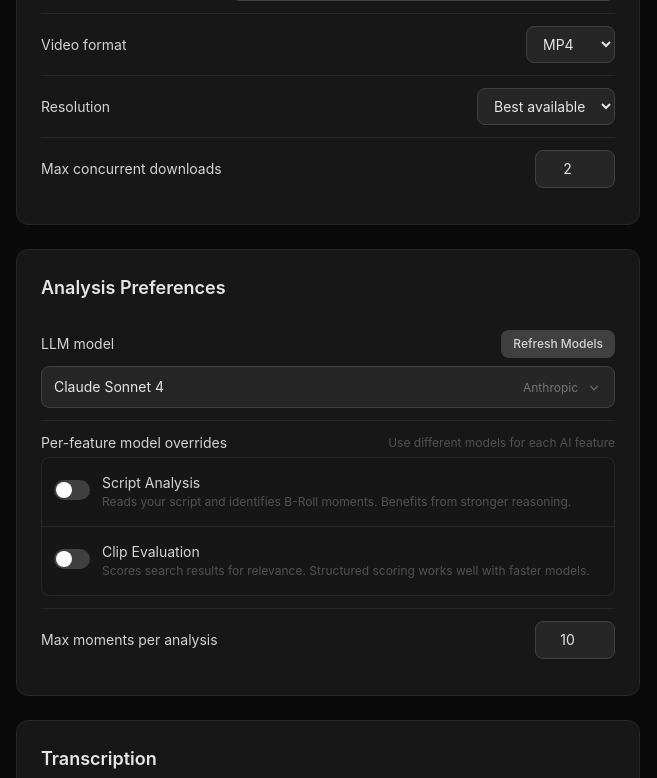
Test case: Settings › shows models grouped by provider when dropdown opened
(page scrolled)
Click the text "Claude Sonnet 4".
click(109, 387)  # box [54,377,164,397]
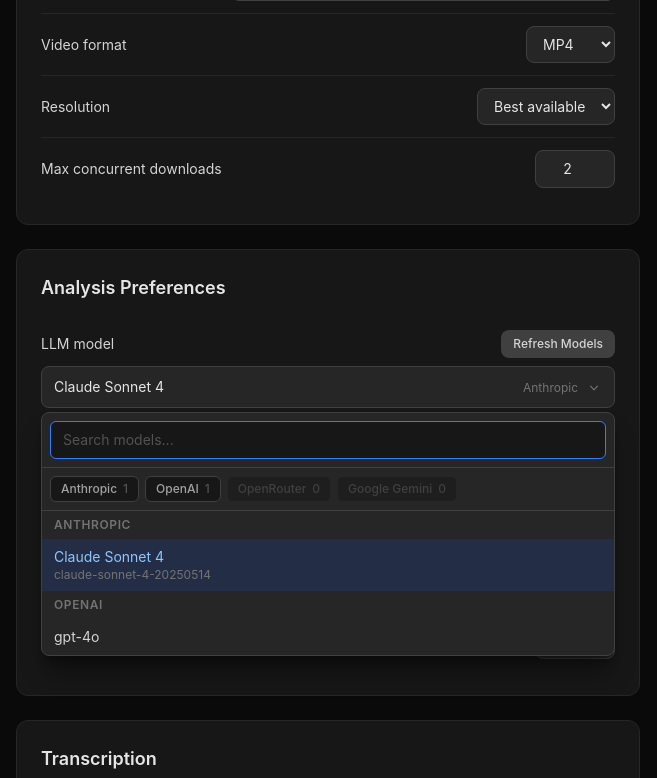
Result: the field with placeholder "Search models..." is shown at [50,421,606,459]
